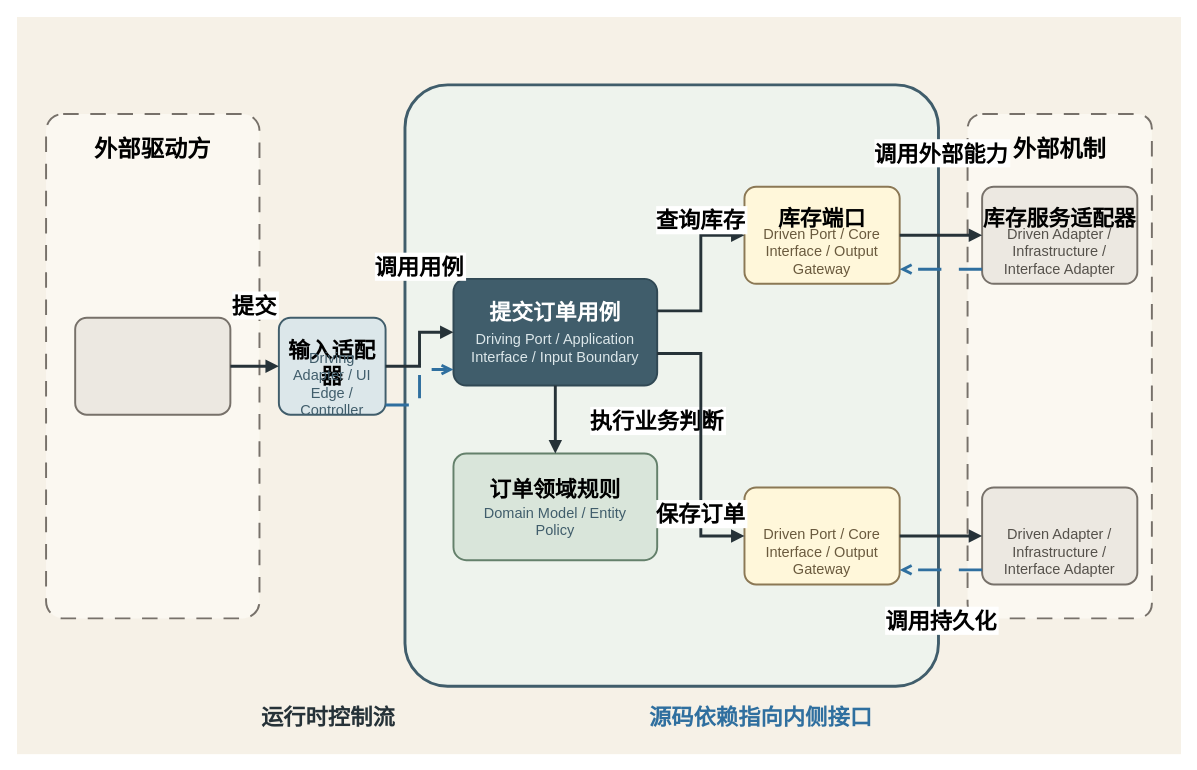
Some shapes in this 1197 by 770 pixel diagram are drawn without their labels. The shapes that lost their labels are listed below. From the top down, each one's box as (x1, y1, x2, y2) in pixels, then its label:
(74, 316, 231, 415): HTTP / CLI / 自动化测试
(403, 83, 939, 687): 应用核心
(743, 486, 900, 585): 订单仓储端口
(981, 486, 1138, 585): 数据库适配器
